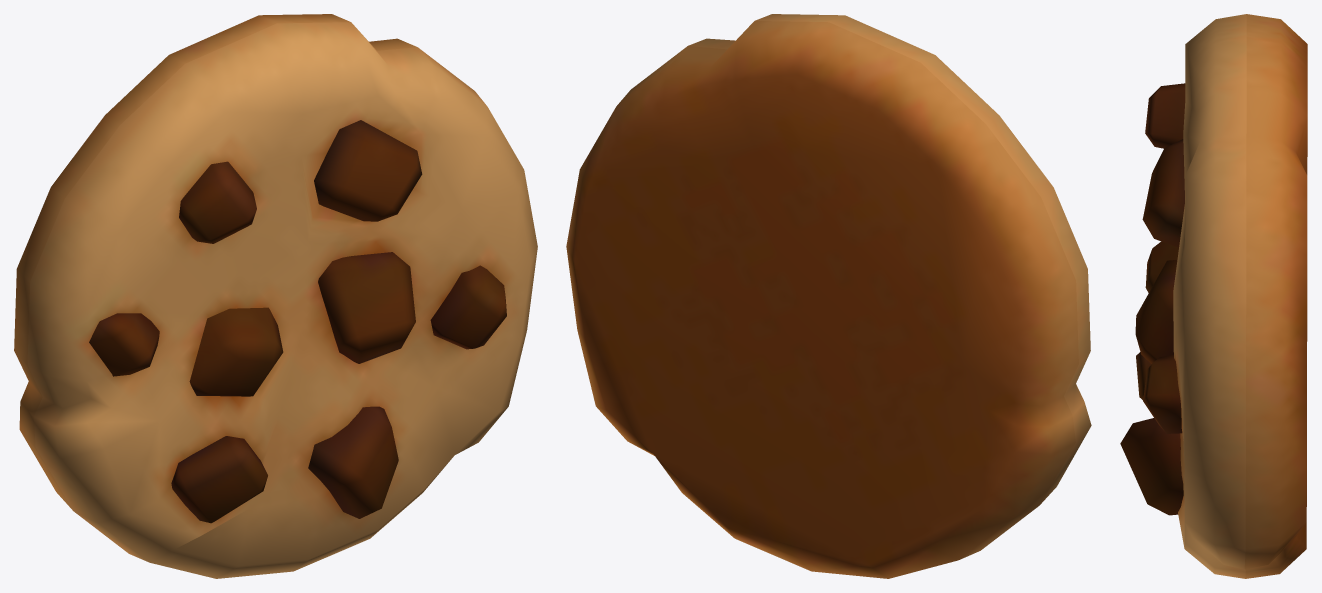
Rendered from cookie.glb.
3 views of the same model, side by side, from view 1: azimuth 30°, elevation 25°; view 2: azimuth 150°, elevation 25°; view 3: azimuth 270°, elevation 25° (orthographic). The views are drawn at different scales.
Visible parts, largest first — view 1: Cookie; view 2: Cookie; view 3: Cookie.
Part boxes in pixels (bbox=[...]): Cookie: bbox=[14, 14, 537, 578]; Cookie: bbox=[566, 14, 1091, 578]; Cookie: bbox=[1120, 14, 1307, 578].
Size of the model in its own units: 12.21 by 12.65 by 4.16.
Materials: 1 (1 with a texture image).
